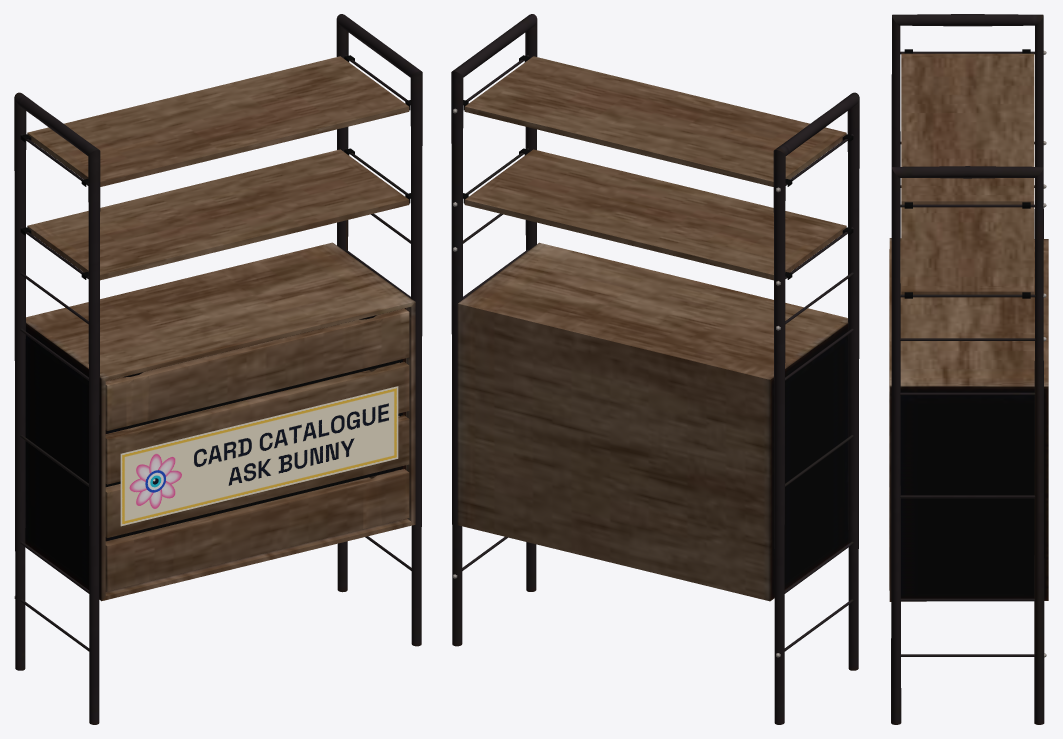
The model's file is u_nyb_deskset_cabinet.glb.
The picture shows the model from 3 angles, left to right: view 1: azimuth 30°, elevation 25°; view 2: azimuth 150°, elevation 25°; view 3: azimuth 270°, elevation 25°; orthographic projection. The views are drawn at different scales.
Parts seen in each view (by area): view 1: drawer_cabinet, stk_lbl_98fa39b31f.png; view 2: drawer_cabinet; view 3: drawer_cabinet.
Part boxes in pixels (bbox=[...]): drawer_cabinet: bbox=[14, 14, 422, 724]; stk_lbl_98fa39b31f.png: bbox=[120, 386, 398, 526]; drawer_cabinet: bbox=[451, 14, 859, 724]; drawer_cabinet: bbox=[889, 14, 1048, 724].
Size of the model in its own units: 1.14 by 1.88 by 0.4906.
Materials: 2 (2 with a texture image).
